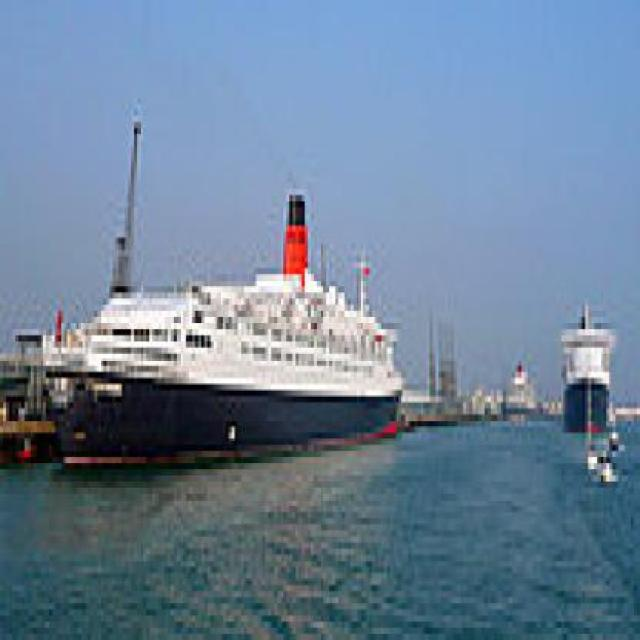cruise: (38, 184, 415, 489)
